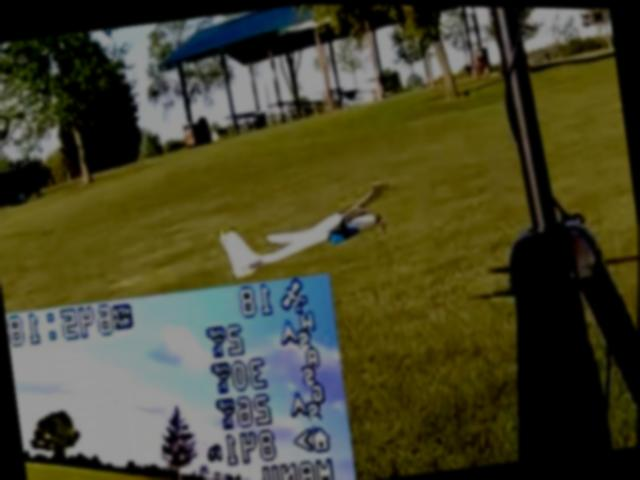iha: (216, 178, 397, 282)
